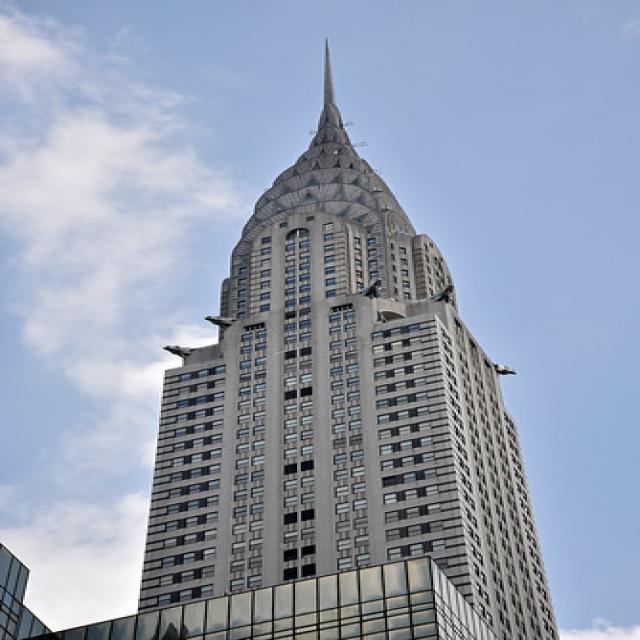Normal_building: (128, 132, 573, 640)
